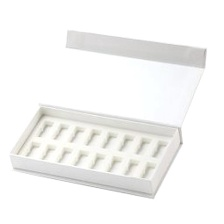book: (3, 23, 213, 201)
